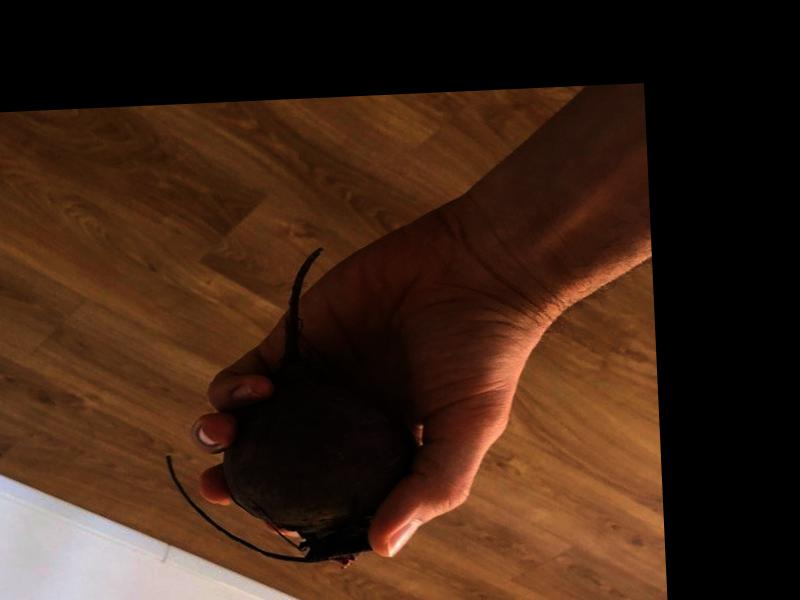Beet: (154, 246, 420, 575)
